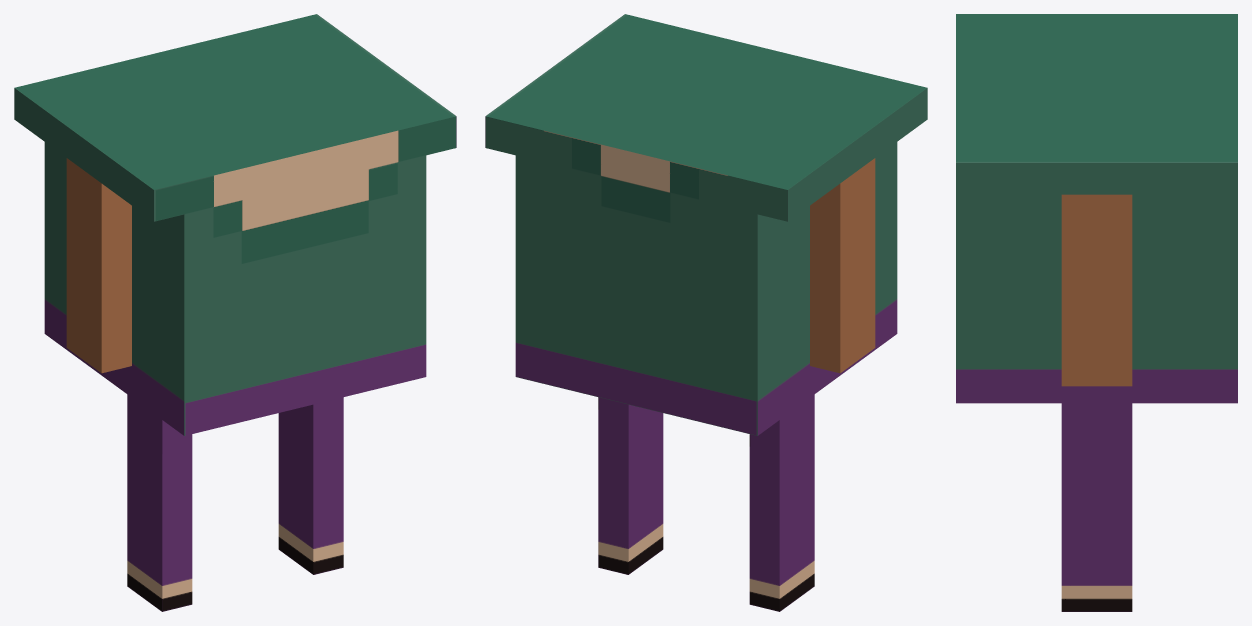
Rendered from body_1.obj.
The picture shows the model from 3 angles, left to right: view 1: azimuth 30°, elevation 25°; view 2: azimuth 150°, elevation 25°; view 3: azimuth 270°, elevation 25°; orthographic projection.
Visible parts, largest first — view 1: body_Plane.001, leg.r_Plane.002, arm.r_Plane.007, leg.l_Plane.005; view 2: body_Plane.001, leg.r_Plane.002, arm.r_Plane.007, leg.l_Plane.005; view 3: body_Plane.001, leg.l_Plane.005, arm.l_Plane.006.
Boxes of the visible parts, x1=… form: body_Plane.001: x1=14, y1=14, x2=456, y2=435; leg.r_Plane.002: x1=127, y1=394, x2=192, y2=611; arm.r_Plane.007: x1=66, y1=158, x2=131, y2=373; leg.l_Plane.005: x1=278, y1=397, x2=343, y2=574; body_Plane.001: x1=485, y1=14, x2=927, y2=435; leg.r_Plane.002: x1=749, y1=394, x2=814, y2=611; arm.r_Plane.007: x1=810, y1=158, x2=875, y2=373; leg.l_Plane.005: x1=598, y1=397, x2=663, y2=574; body_Plane.001: x1=956, y1=14, x2=1237, y2=403; leg.l_Plane.005: x1=1061, y1=403, x2=1132, y2=611; arm.l_Plane.006: x1=1061, y1=194, x2=1132, y2=386.
Size of the model in its own units: 0.0597 by 0.0895 by 0.0477.
4 materials, 3 textured.
